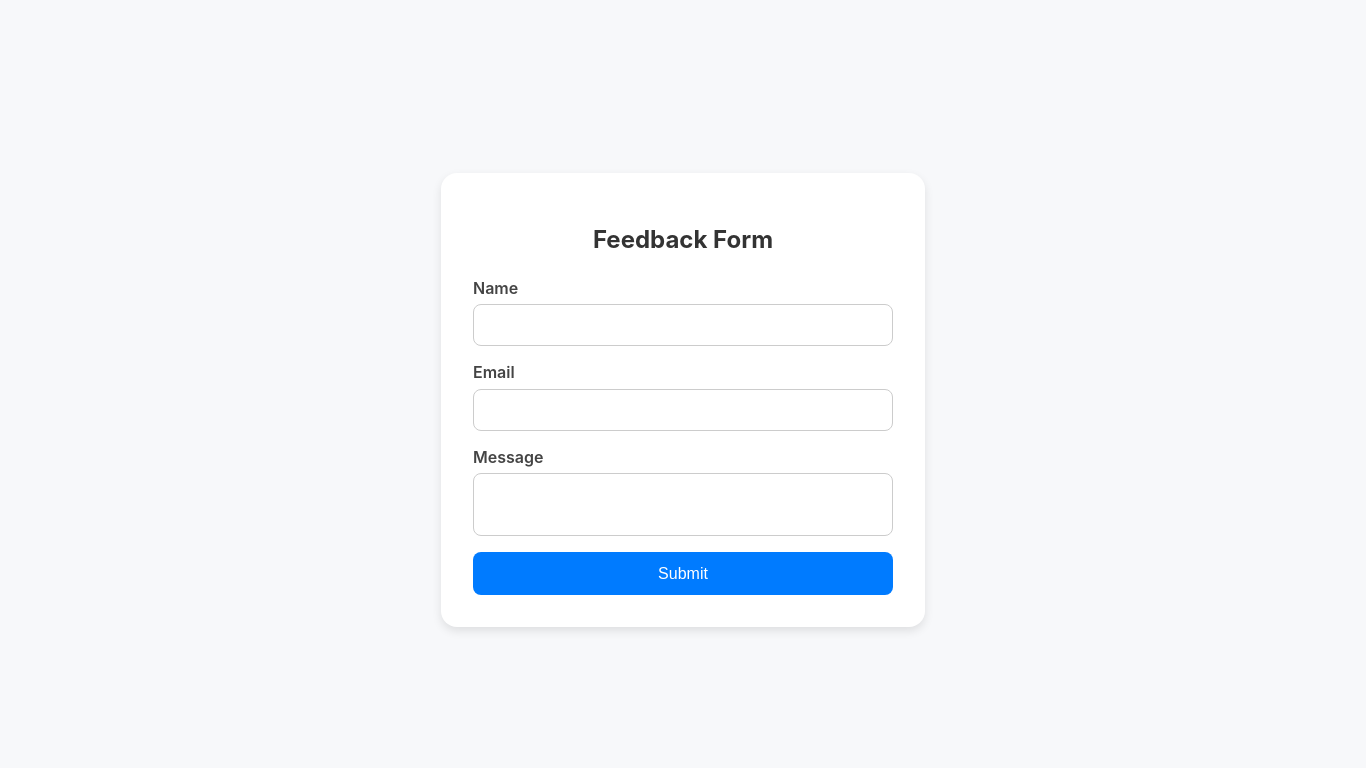
Test: FeedbackForm › shows email format validation error
Type "Vishal" into the field labelled "Name".
click(683, 325); type("Vishal")  # box [473,304,893,346]
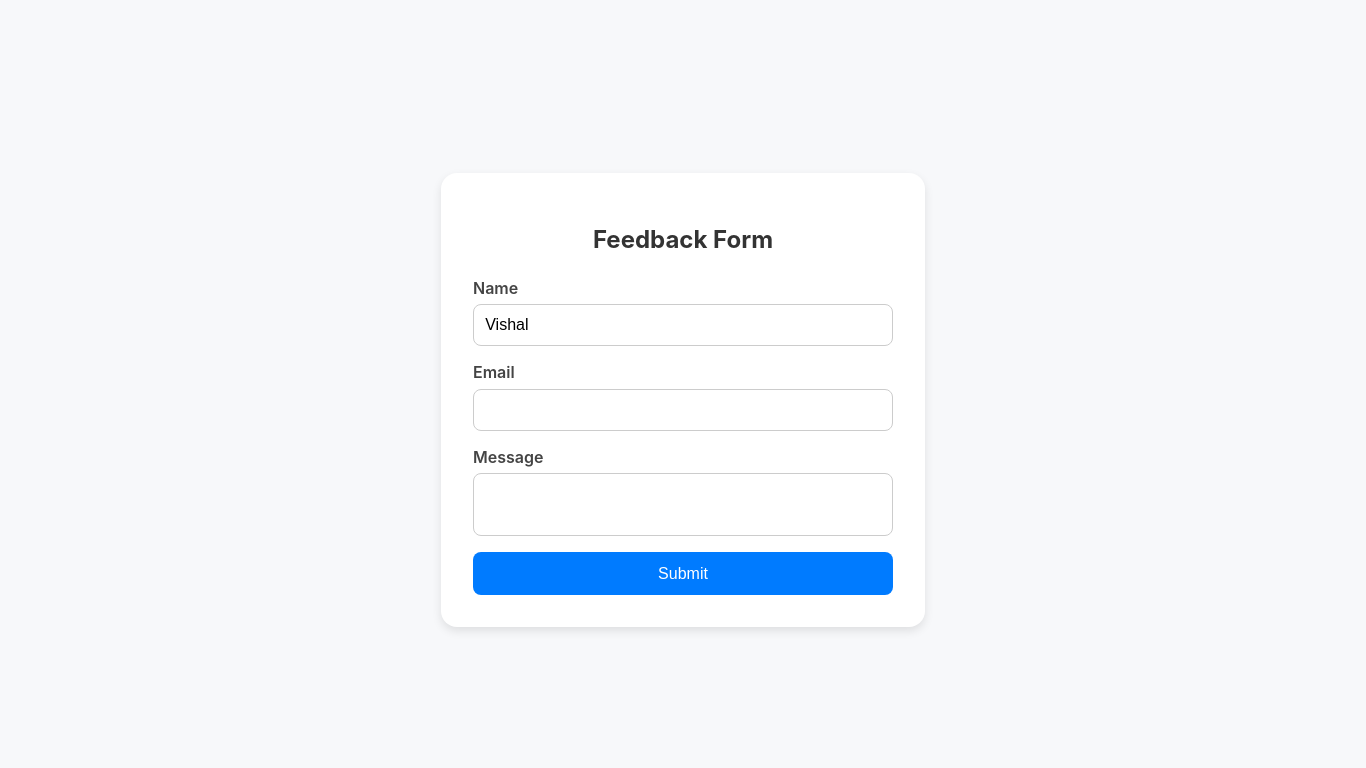
Type "invalid-email" into the field labelled "Email".
click(683, 410); type("invalid-email")  # box [473,389,893,431]
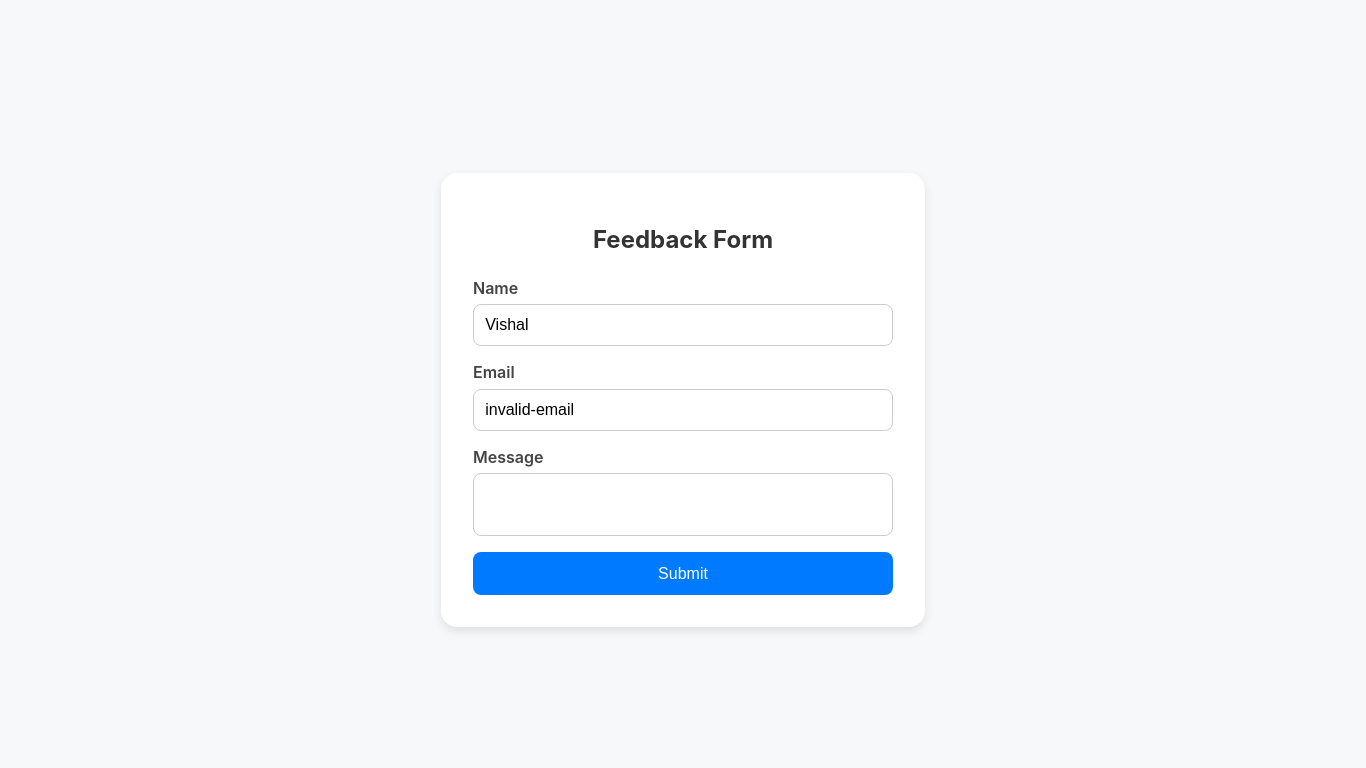
Type "Hello" into the text box labelled "Message".
click(683, 505); type("Hello")  # box [473,473,893,536]
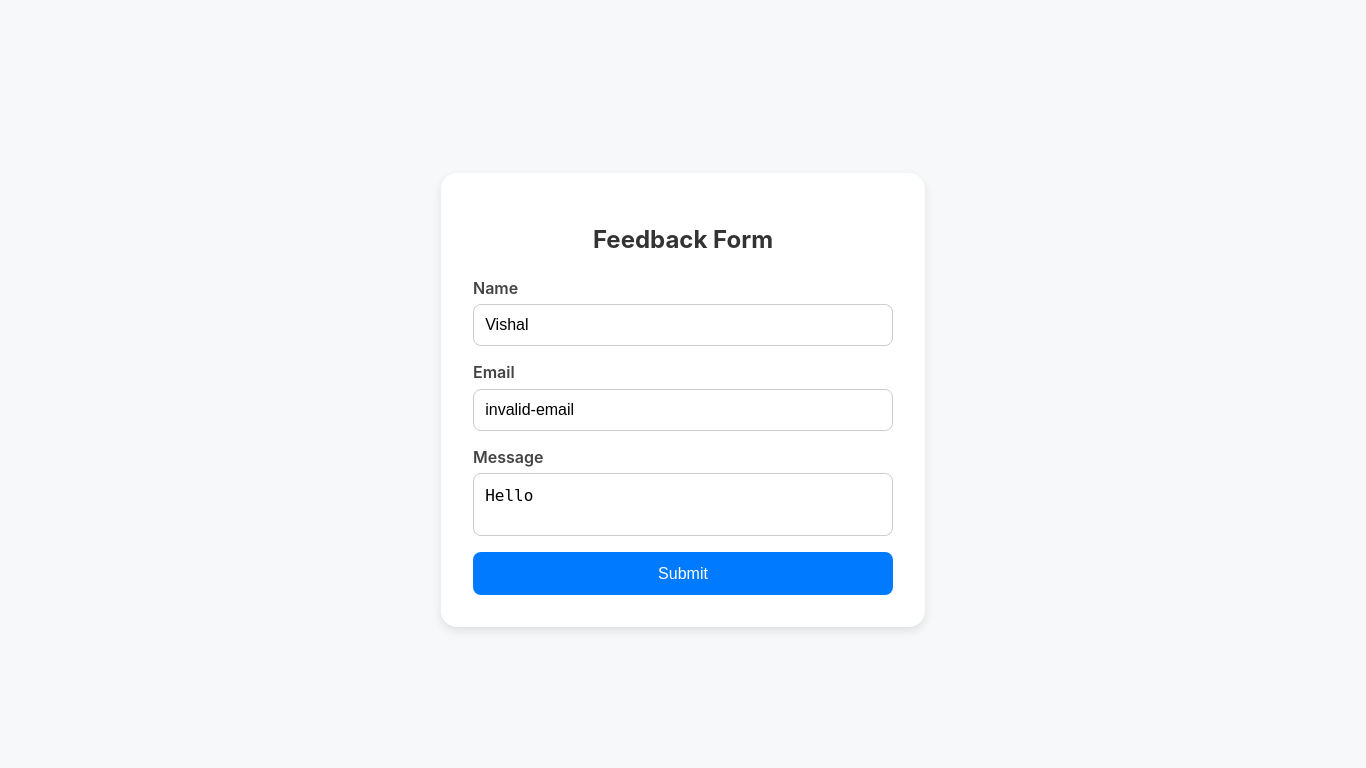
Click the button "Submit".
click(683, 574)  # box [473,552,893,595]
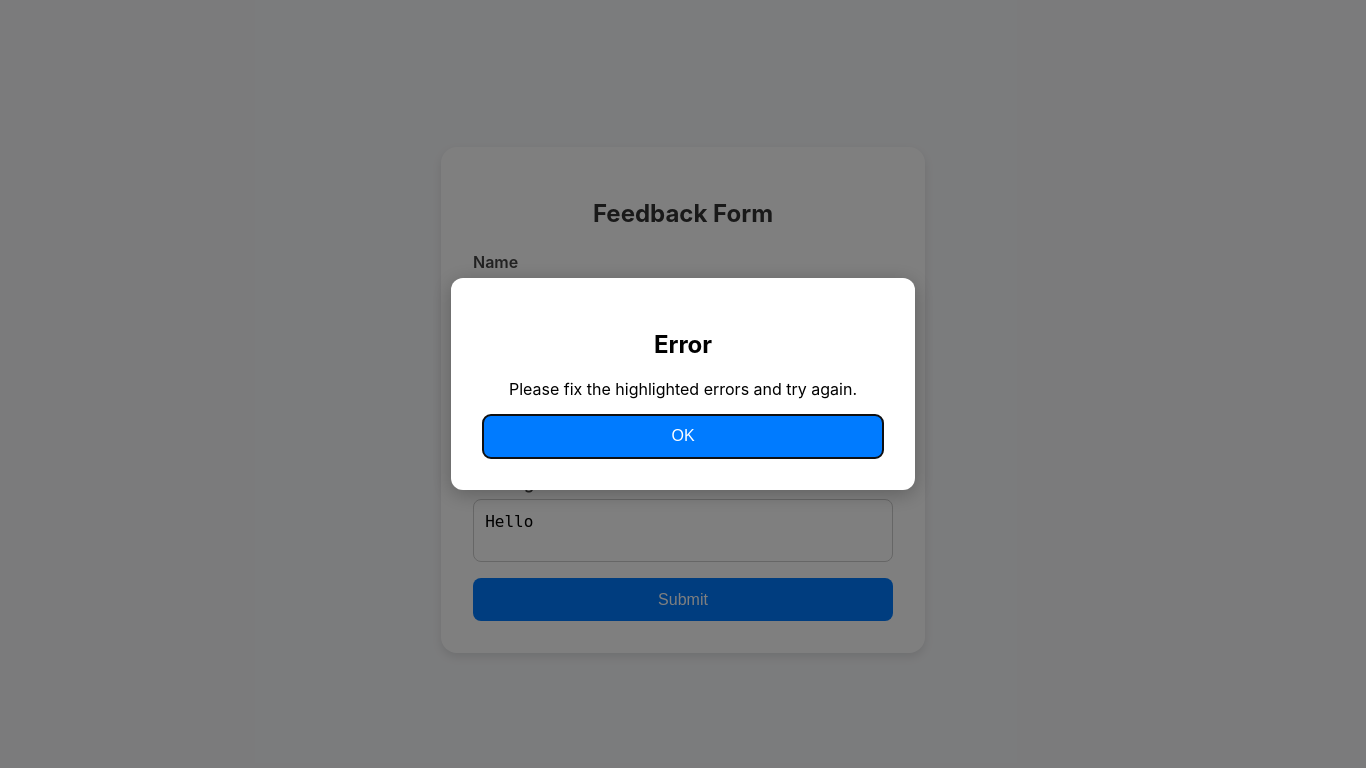
Expected: the text "Email is invalid." is shown, [473,421,588,441]
Expected: the text "Please fix the highlighted errors and try again." is shown, [483,379,883,399]
